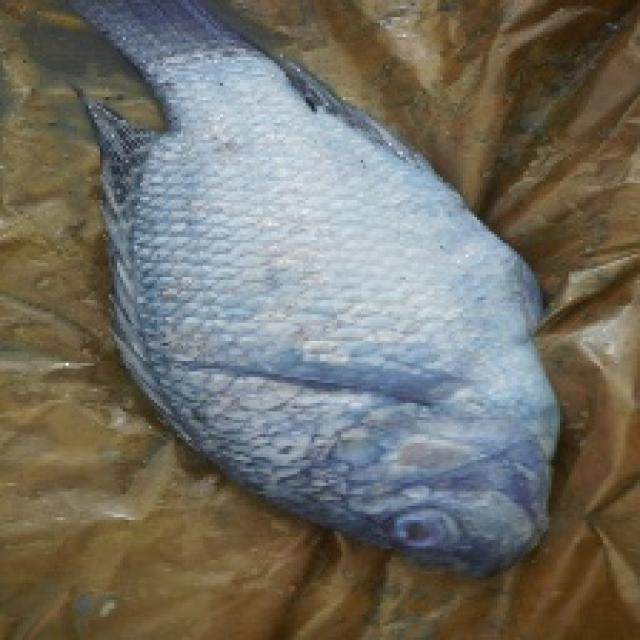Non-Fresh: (176, 129, 490, 470), (389, 486, 472, 560)
